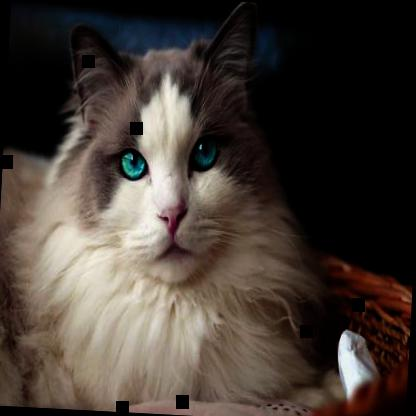cat: (0, 0, 317, 415)
